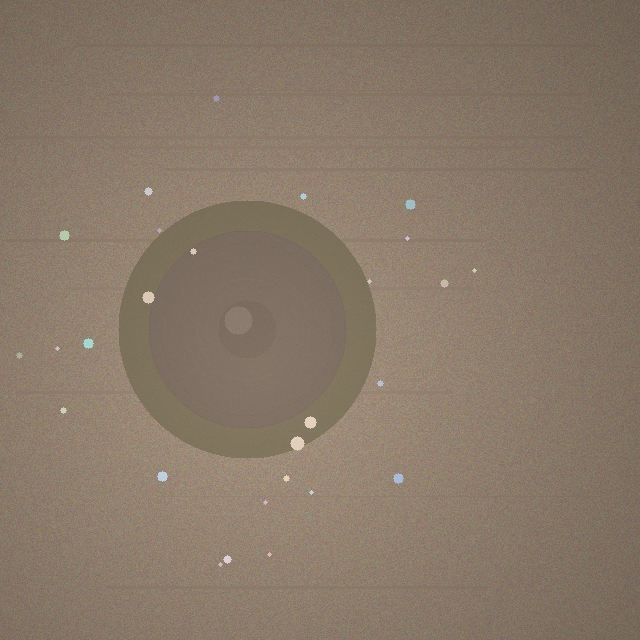overburn: (118, 200, 376, 458)
